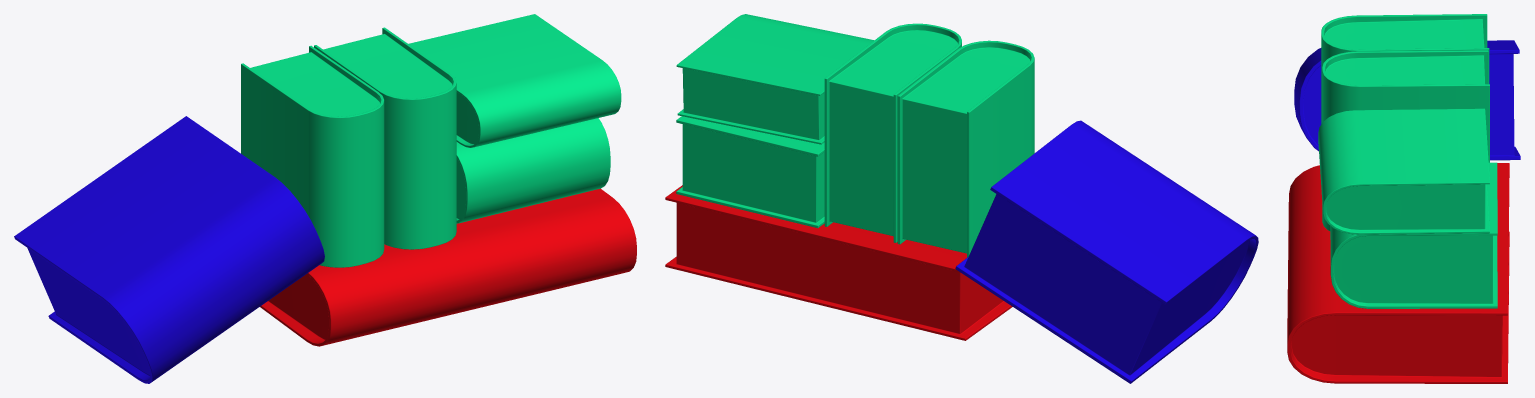
The model's file is BookStack1.fbx.
The picture shows the model from 3 angles, left to right: view 1: azimuth 30°, elevation 25°; view 2: azimuth 150°, elevation 25°; view 3: azimuth 270°, elevation 25°; orthographic projection. The views are drawn at different scales.
Parts seen in each view (by area): view 1: Cube.008, Cube.014, Cube.010, Cube.013, Cube.011, Cube.012; view 2: Cube.008, Cube.014, Cube.010, Cube.011, Cube.013, Cube.012; view 3: Cube.014, Cube.013, Cube.012, Cube.011, Cube.010, Cube.008.
Part boxes in pixels (bbox=[...]): Cube.008: bbox=[14, 116, 324, 383]; Cube.014: bbox=[260, 188, 636, 346]; Cube.010: bbox=[241, 45, 384, 267]; Cube.013: bbox=[408, 14, 621, 147]; Cube.011: bbox=[314, 27, 456, 249]; Cube.012: bbox=[456, 118, 610, 223]; Cube.008: bbox=[955, 120, 1258, 383]; Cube.014: bbox=[665, 185, 1012, 340]; Cube.010: bbox=[897, 40, 1034, 257]; Cube.011: bbox=[824, 23, 961, 242]; Cube.013: bbox=[676, 14, 873, 144]; Cube.012: bbox=[676, 116, 824, 228]; Cube.014: bbox=[1287, 163, 1509, 383]; Cube.013: bbox=[1318, 108, 1489, 234]; Cube.012: bbox=[1330, 162, 1497, 308]; Cube.011: bbox=[1322, 50, 1489, 230]; Cube.010: bbox=[1321, 14, 1489, 123]; Cube.008: bbox=[1294, 40, 1520, 160].
Size of the model in its own units: 85.88 by 35.52 by 33.61.
